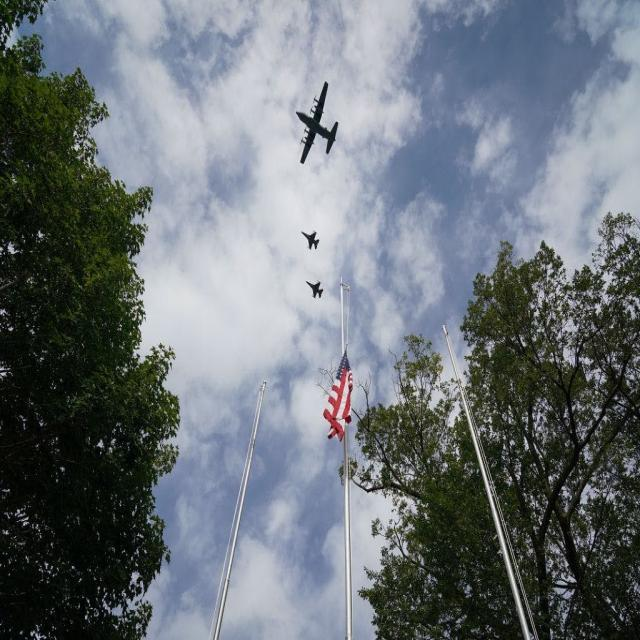MIL_Plane: (312, 81, 322, 165), (300, 230, 319, 250), (305, 280, 324, 299)
